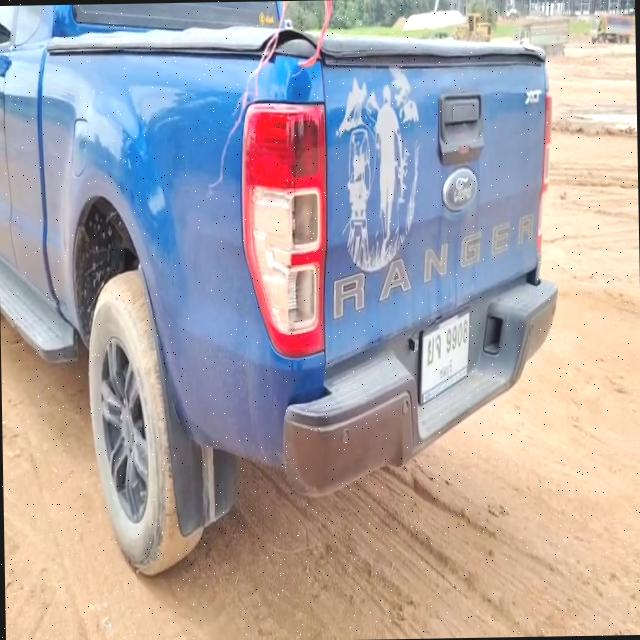Digit: (446, 316, 468, 354)
Licenseplate: (418, 306, 472, 408)
Provincename: (438, 354, 456, 381)
Thaichar: (426, 328, 442, 364)
